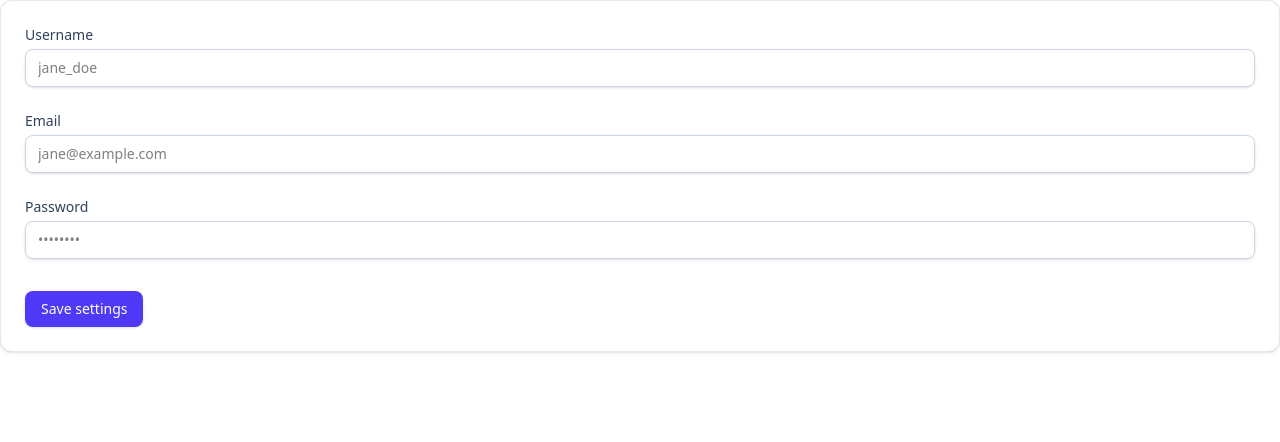
it: SettingsForm › shows red error messages when submitted with invalid values
The image size is (1280, 442).
Type "ab" into the field labelled "Username" at (640, 68), box x1=25 y1=49 x2=1255 y2=87
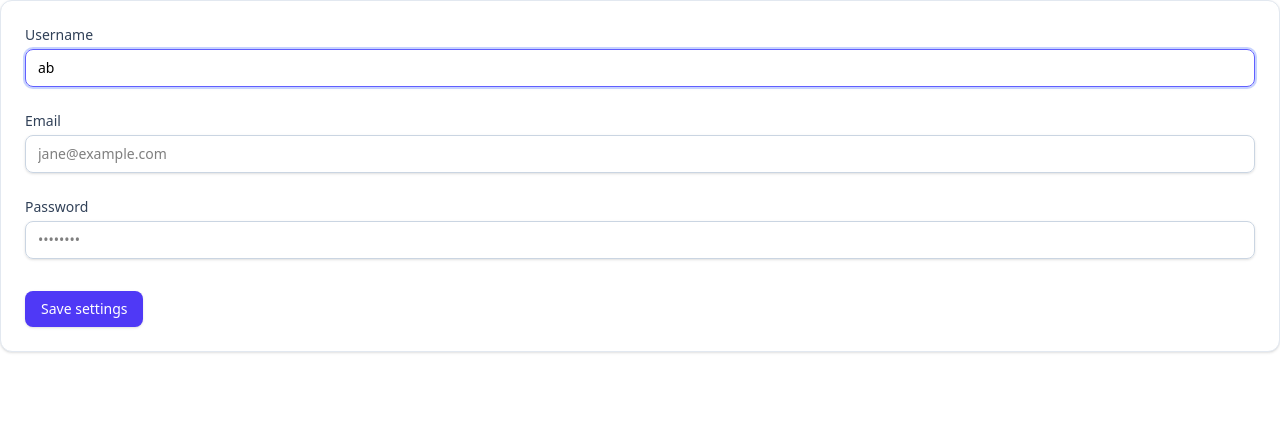
Type "not-an-email" into the field labelled "Email" at (640, 154), box x1=25 y1=135 x2=1255 y2=173
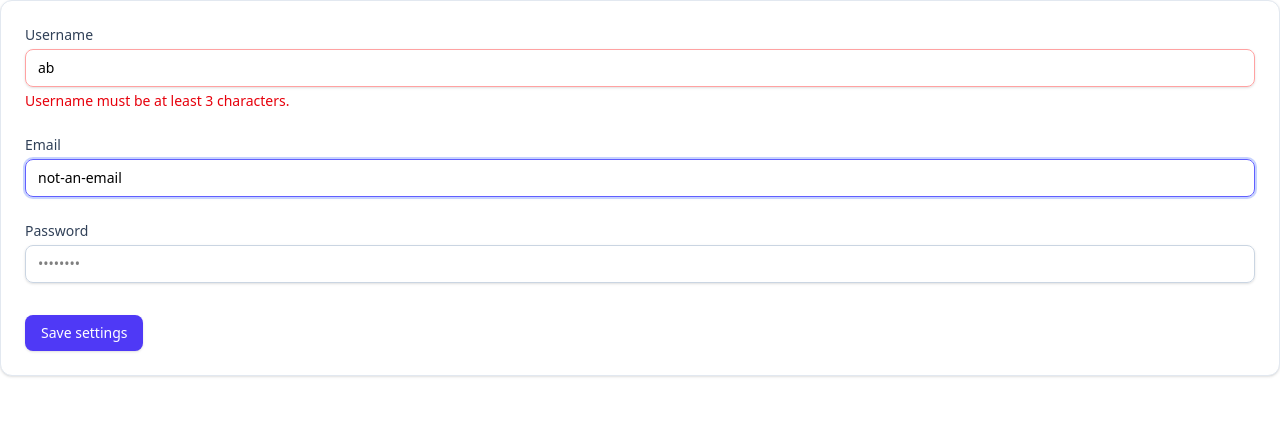
Type "12345" into the password field labelled "Password" at (640, 264), box x1=25 y1=245 x2=1255 y2=283
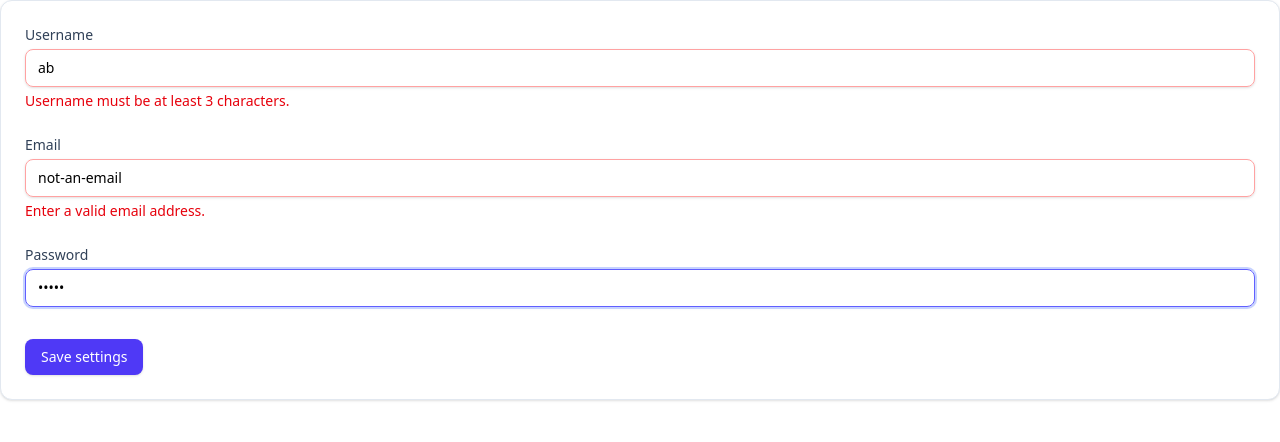
Click the button "Save settings" at (84, 357), box x1=25 y1=339 x2=144 y2=375
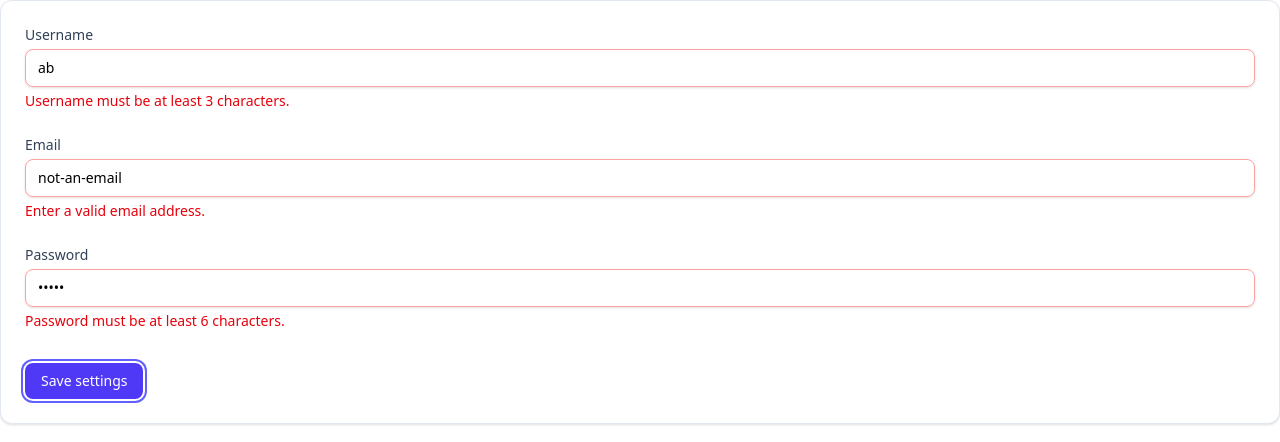
expect the text "Username must be at least 3 characters." is shown: met, box x1=25 y1=91 x2=290 y2=110
expect the text "Enter a valid email address." is shown: met, box x1=25 y1=201 x2=205 y2=220
expect the text "Password must be at least 6 characters." is shown: met, box x1=25 y1=311 x2=285 y2=330
